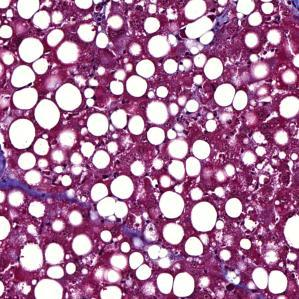fibrosis: (5, 178, 88, 206)
